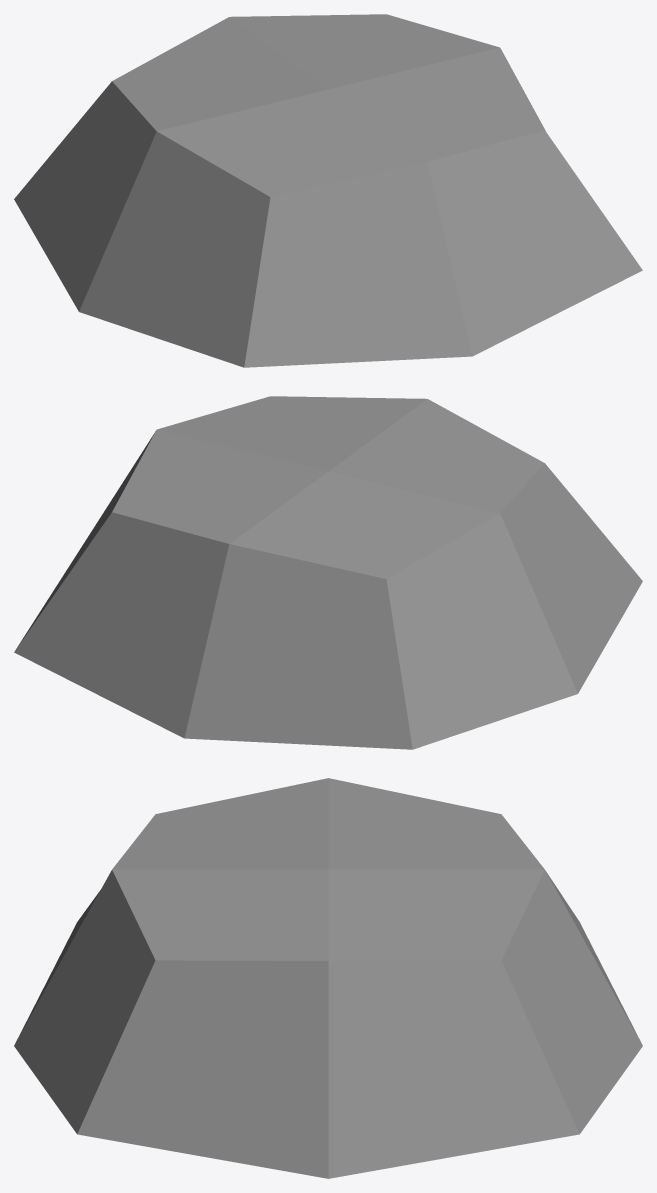
File: SmallRockFlat.fbx
3 views of the same model, one above another, from view 1: azimuth 30°, elevation 25°; view 2: azimuth 150°, elevation 25°; view 3: azimuth 270°, elevation 25° (orthographic). The views are drawn at different scales.
Visible parts, largest first — view 1: SmallRockFlat; view 2: SmallRockFlat; view 3: SmallRockFlat.
Boxes of the visible parts, x1=… form: SmallRockFlat: x1=14, y1=14, x2=642, y2=367; SmallRockFlat: x1=14, y1=396, x2=642, y2=749; SmallRockFlat: x1=14, y1=778, x2=642, y2=1178.
Size of the model in its own units: 0.0807 by 0.025 by 0.0807.
1 material, 1 textured.
